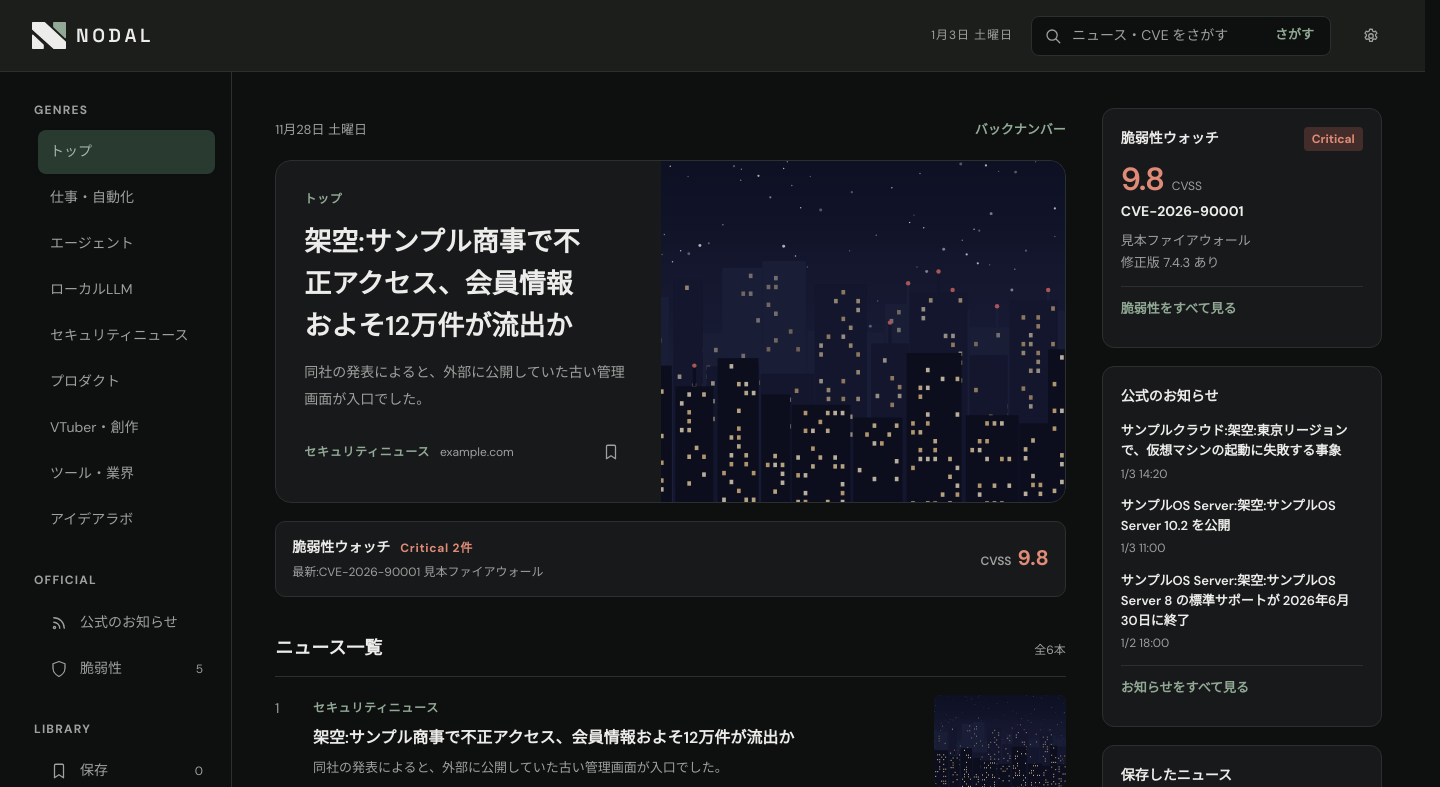
Test: トップ(今朝のネタ) › トップの枠:見出しが本物のリンクで、保存ボタンはリンクの外にあり別に押せる
This screenshot has width=1440, height=787.
保存ボタンを押しても詳細へは移らず、保存だけされる
Step 1. Click the 1st button named "保存する" → (611, 452), box [589, 430, 633, 474]
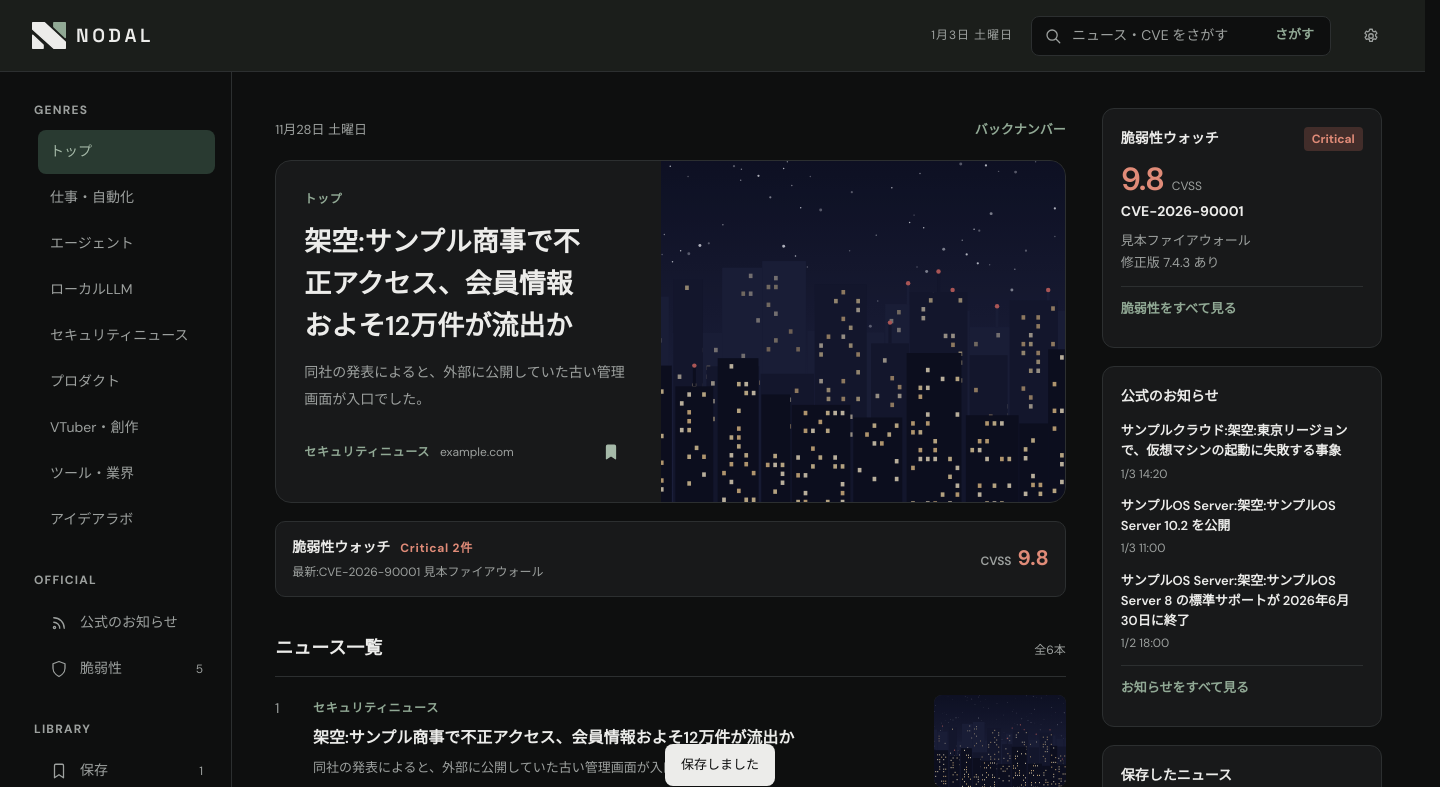
Expected: the 1st button named "保存から外す" is pressed, [589, 430, 633, 474]
